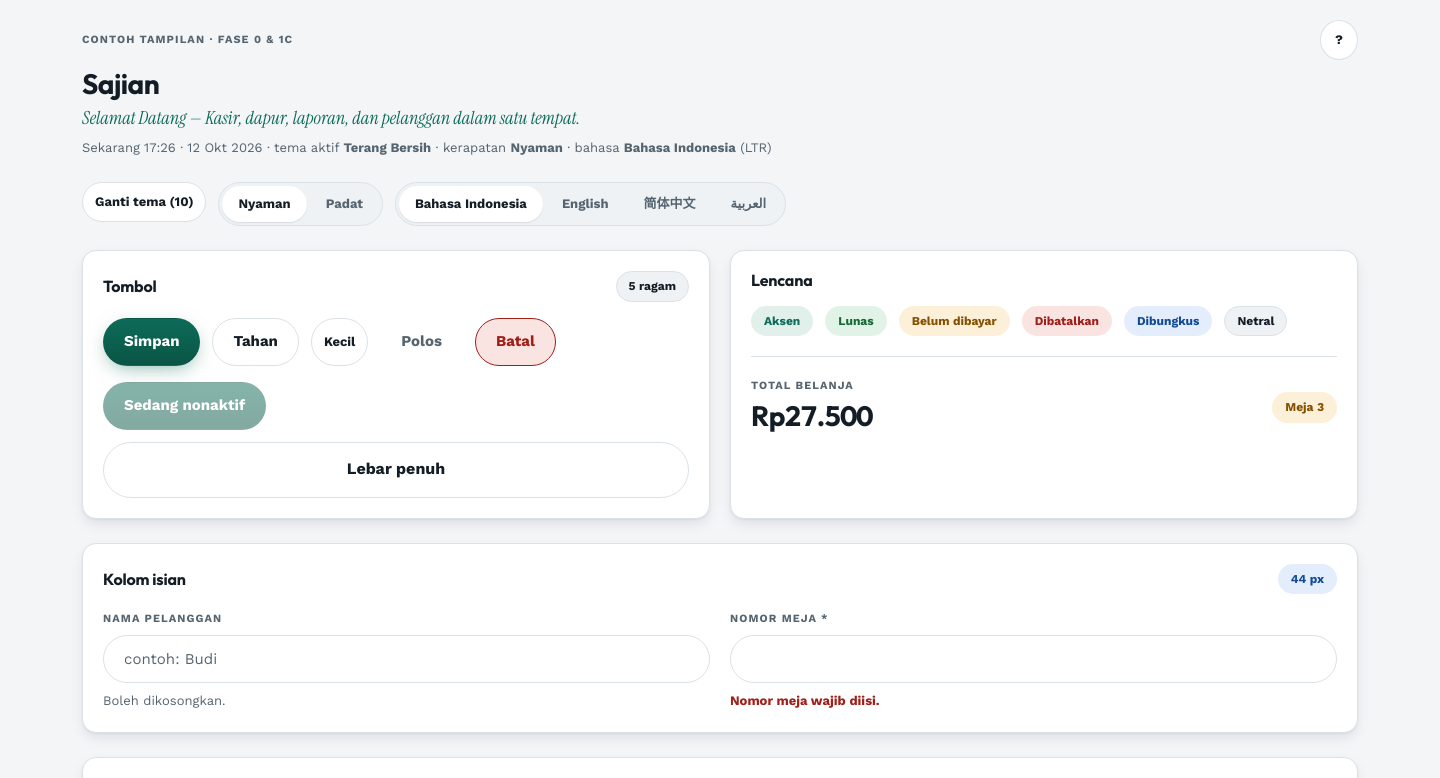
Test case: kontrol tema & kerapatan di layar contoh › tombol Padat benar-benar mengubah kerapatan di elemen akar & tersimpan
Click the button "Padat" at (344, 204), box [310,186,379,222]
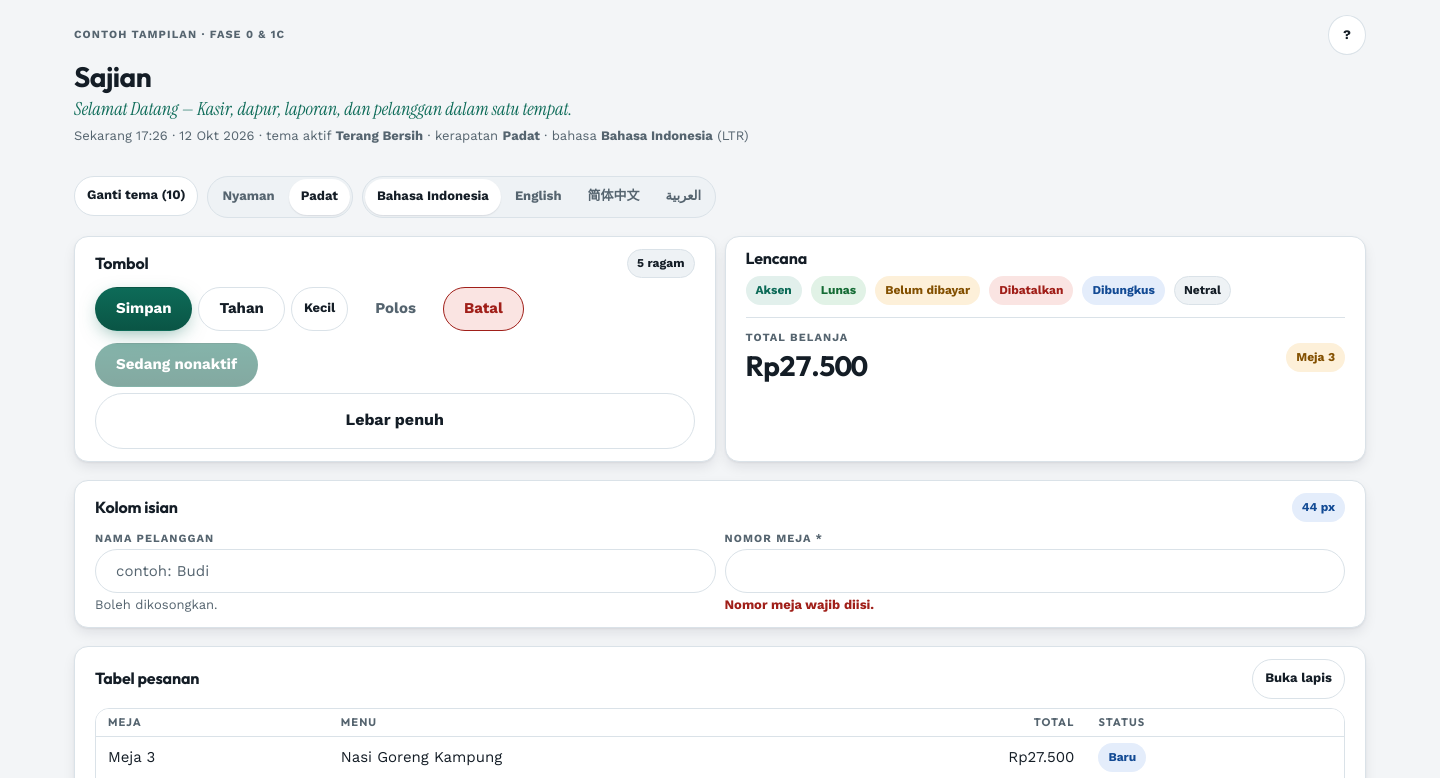
Check: the text "kerapatan Padat" is shown, box [74,128,749,143]
